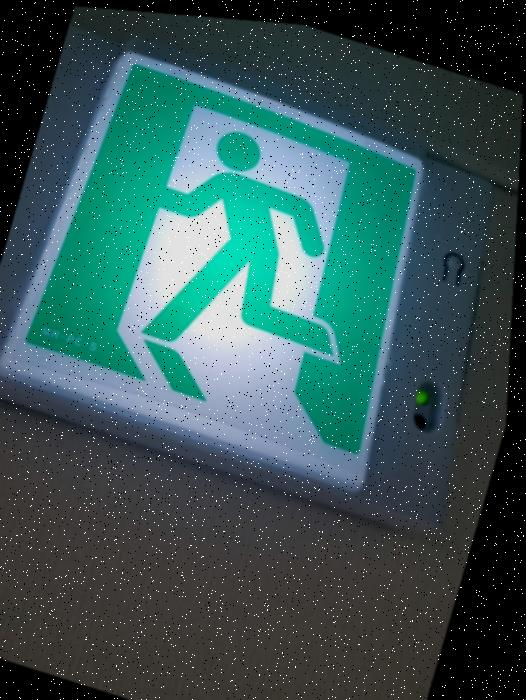emergency_exit: (2, 3, 522, 699), (13, 49, 426, 495)
